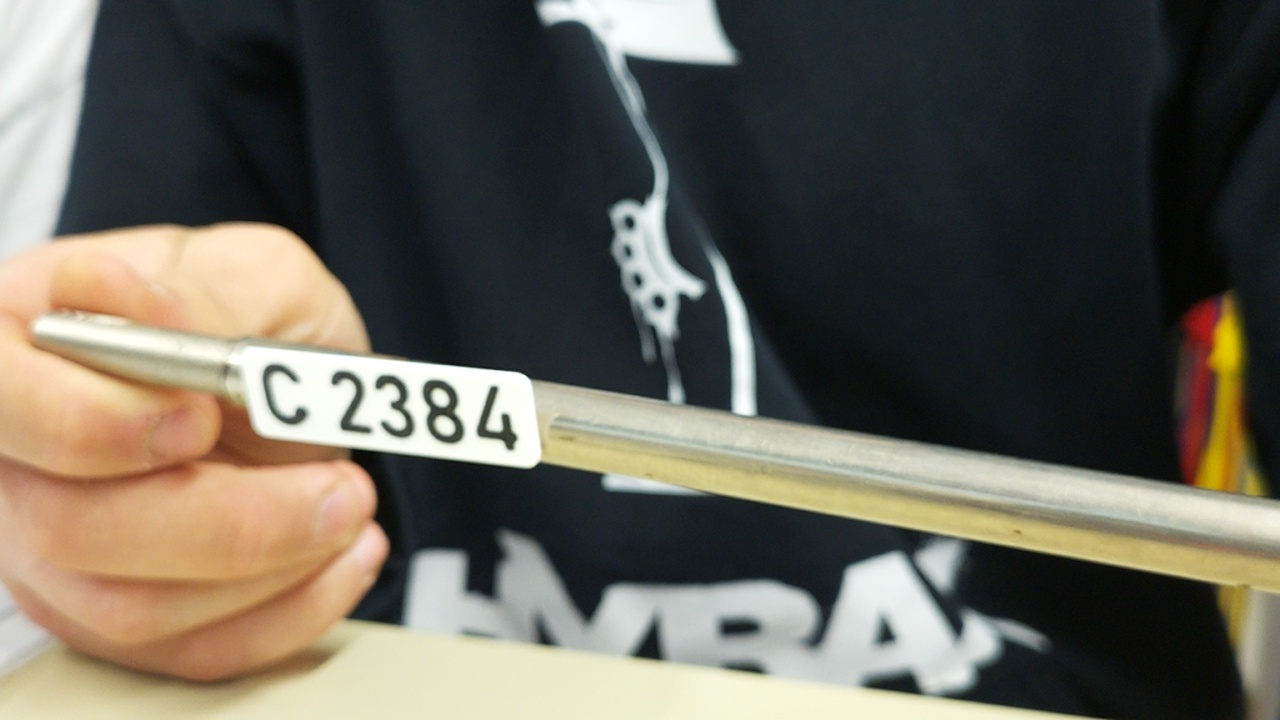license_plate: (240, 342, 544, 470)
